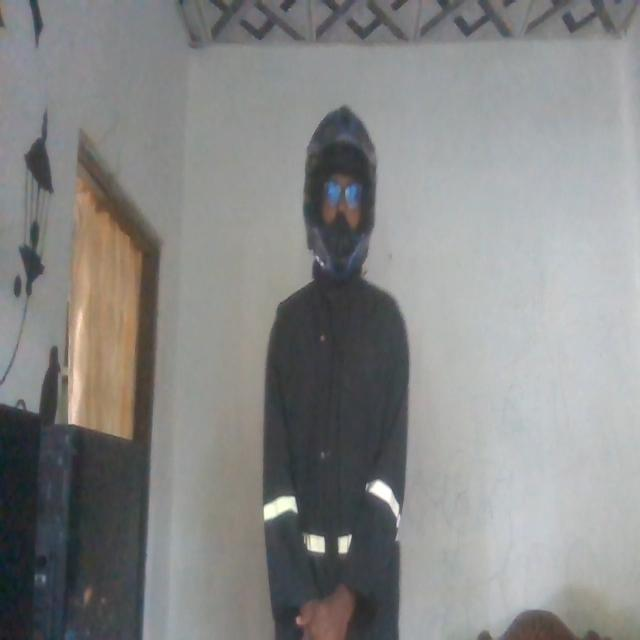Helmet_Wearer: (293, 107, 385, 279)
Jacket_Wearer: (264, 263, 410, 640)
Person: (255, 98, 405, 640)
